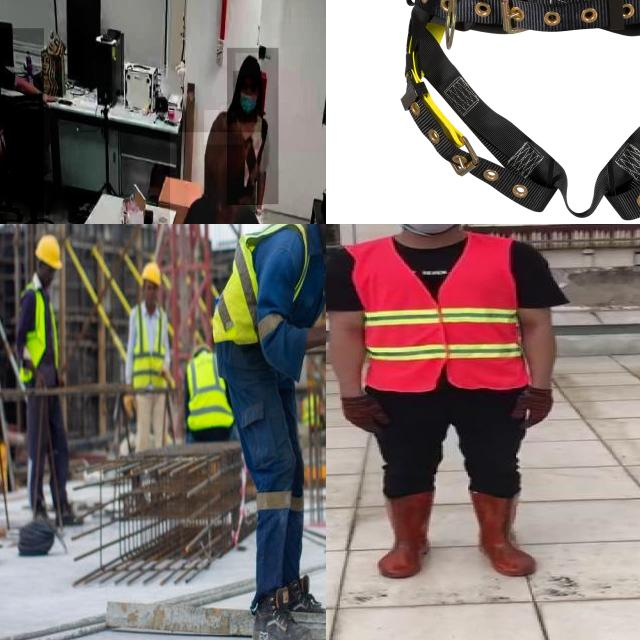Harness: (390, 0, 640, 215)
boots: (470, 490, 540, 576), (378, 492, 438, 578), (247, 596, 313, 640), (288, 572, 326, 618)
face_mask: (233, 71, 261, 122)
hand_noglove: (39, 89, 60, 110)
head_helmet: (34, 232, 64, 272), (142, 260, 162, 290)
head_nohelmet: (204, 110, 244, 146), (236, 53, 262, 76)
person: (326, 224, 564, 587), (186, 224, 326, 640), (170, 132, 264, 224), (0, 28, 44, 224), (227, 48, 279, 205)
vest: (353, 237, 523, 390), (210, 224, 310, 347), (184, 346, 237, 434), (16, 283, 59, 383), (130, 304, 172, 392)
